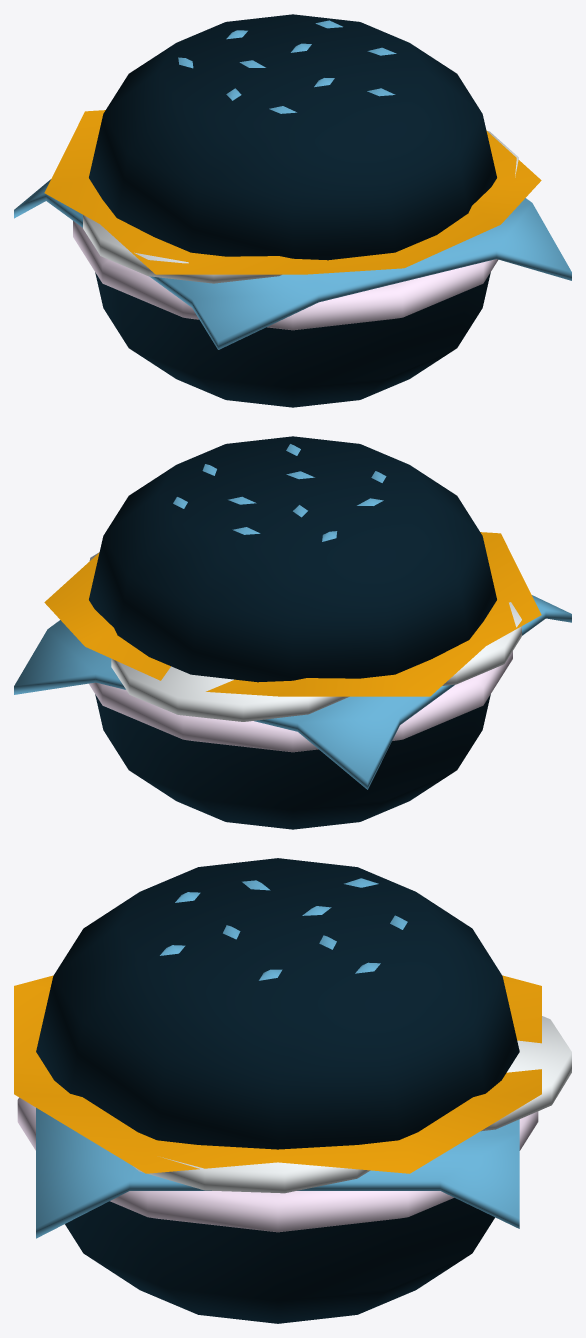
File: Hamburger.fbx
3 renders of one model, top to bottom at view 1: azimuth 30°, elevation 25°; view 2: azimuth 150°, elevation 25°; view 3: azimuth 270°, elevation 25°, orthographic. The views are drawn at different scales.
Parts seen in each view (by area): view 1: Hamburger; view 2: Hamburger; view 3: Hamburger.
Boxes of the visible parts, left/top/right/bottom form: Hamburger: left=14, top=14, right=571, bottom=407; Hamburger: left=14, top=436, right=571, bottom=829; Hamburger: left=14, top=858, right=571, bottom=1323.
Bounding box in the file's own units: 0.2133 × 0.1442 × 0.2165.
